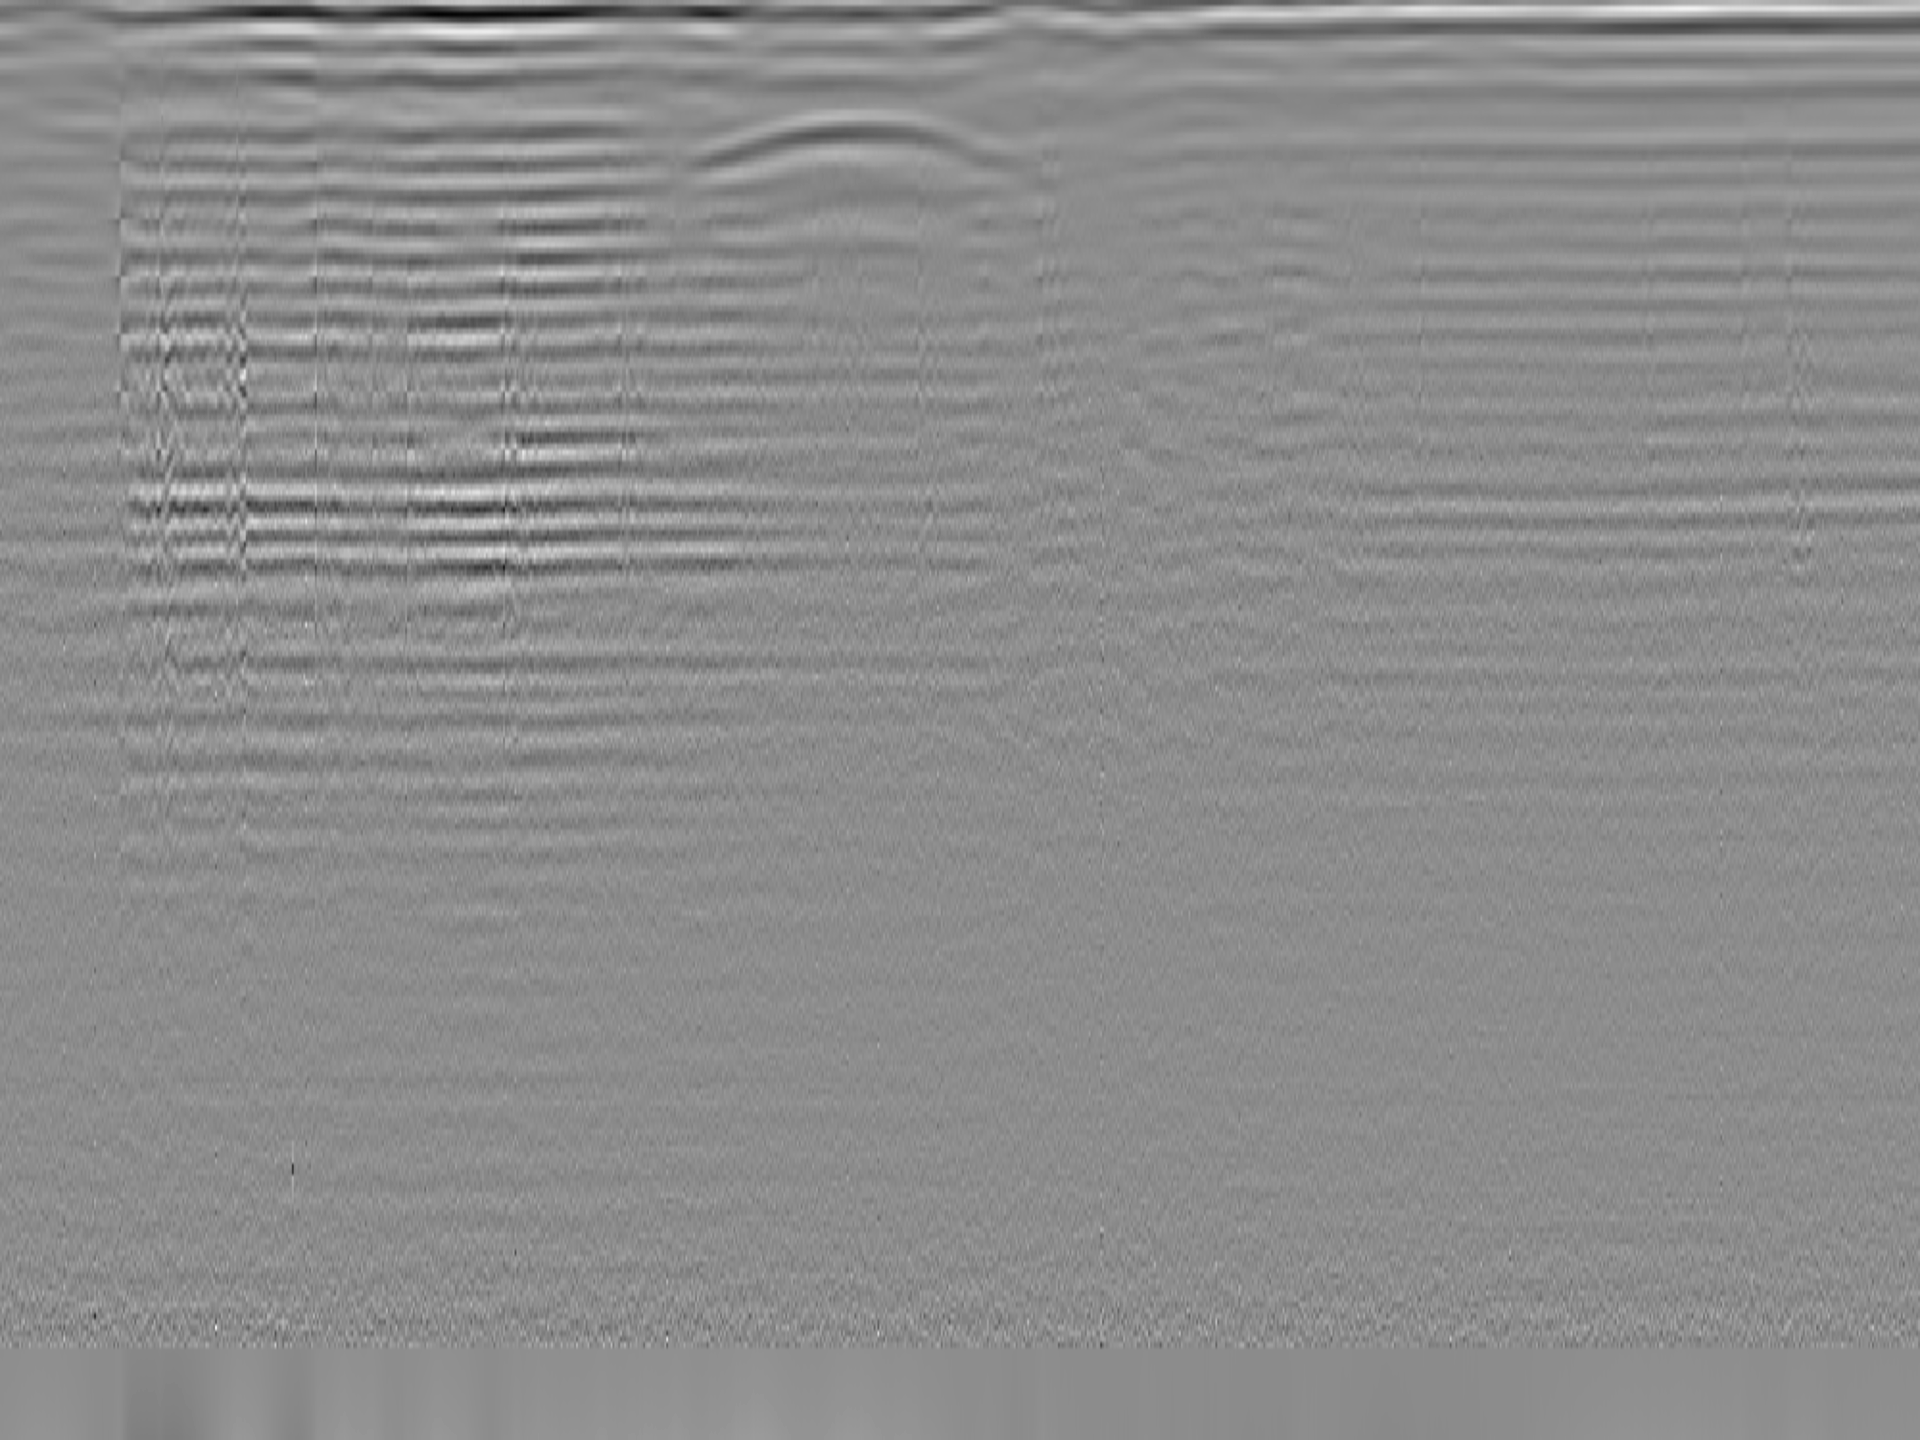Tunnel: (688, 106, 1043, 182)
